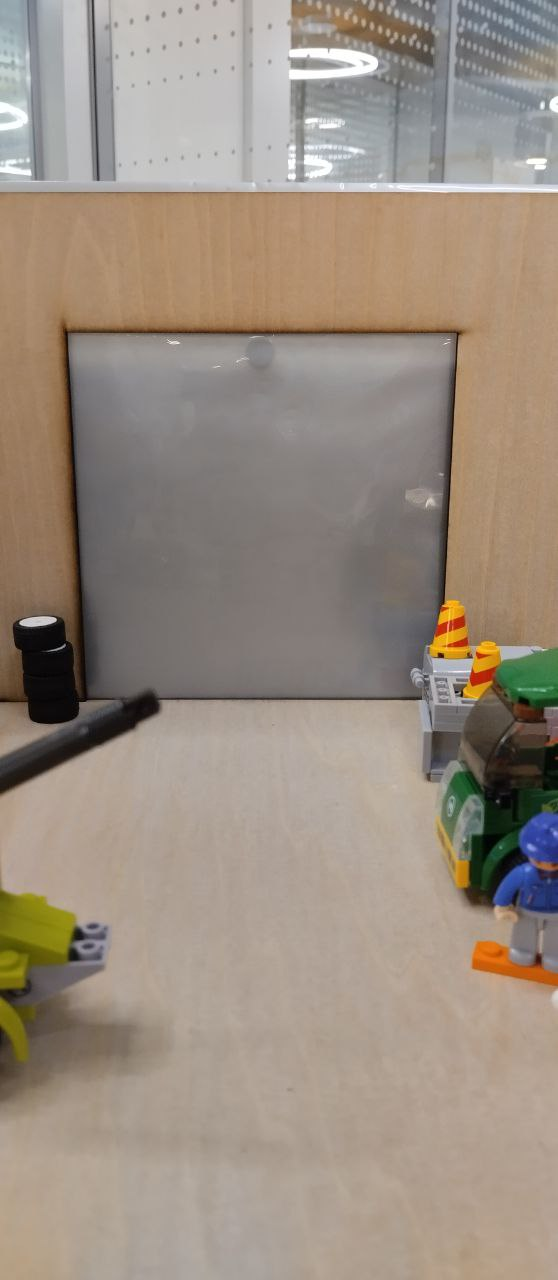Cone: (430, 598, 474, 664), (468, 640, 503, 701)
Truck: (441, 644, 557, 900)
